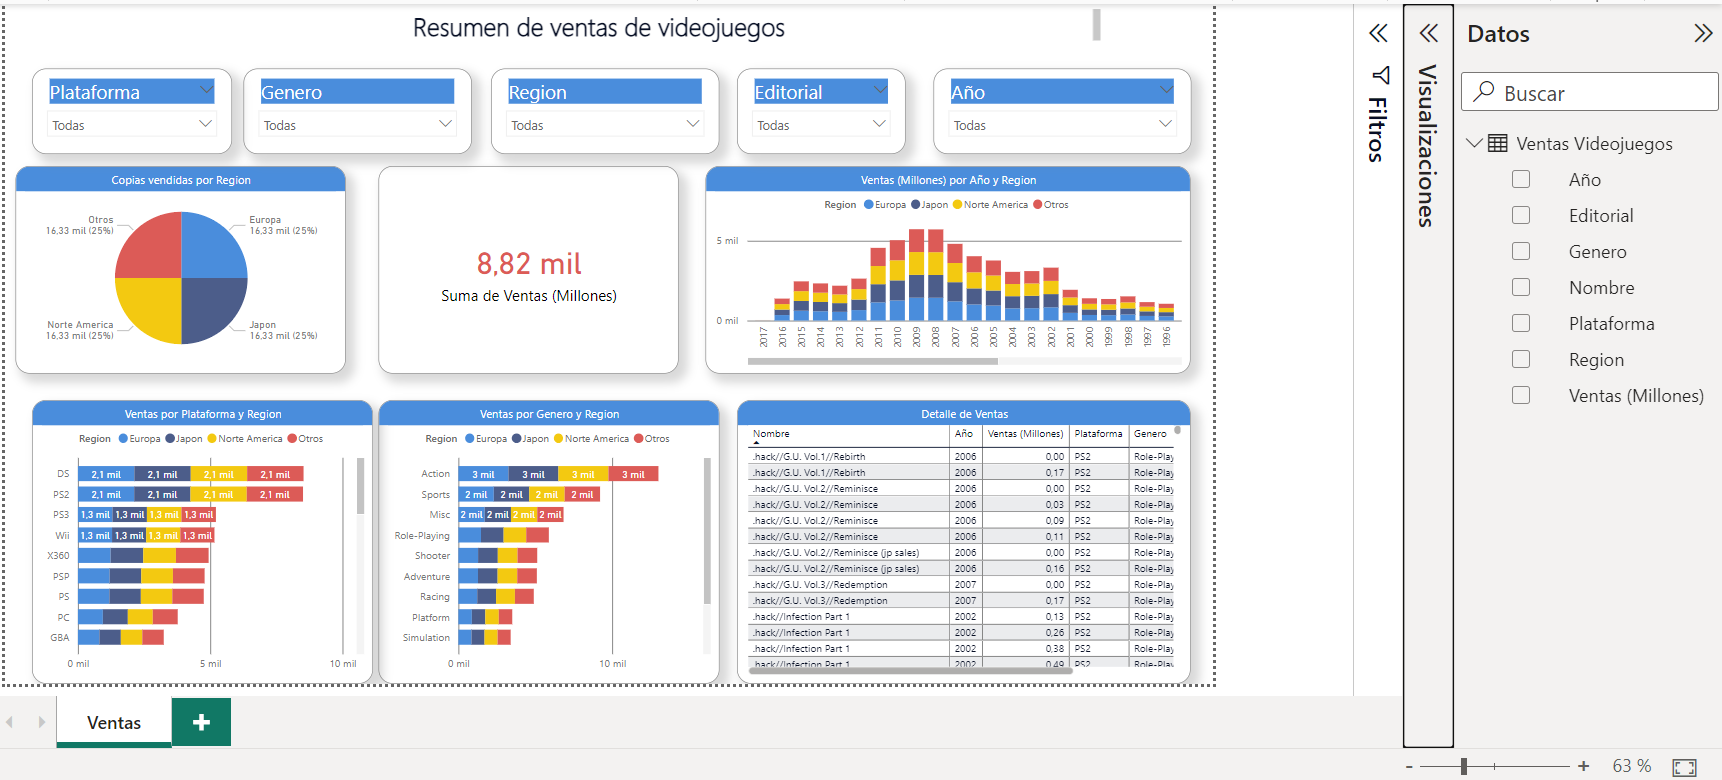

The dashboard page shown, as its layout file describes it:
{"tool":"powerbi","page":{"name":"Ventas ","canvas":[1280,720],"ordinal":0},"visuals":[{"type":"card","title":"Nombre","fields":{"Values":["Sum(Ventas Videojuegos.Ventas (Millones))"]},"box":[396,171.4,318.2,220.3],"z":0},{"type":"columnChart","fields":{"Series":["Ventas Videojuegos.Region"],"Category":["Ventas Videojuegos.Año"],"Y":["CountNonNull(Ventas Videojuegos.Ventas (Millones))"]},"box":[743,171.4,514.1,220.3],"z":1000},{"type":"pieChart","title":"Copias vendidas por Region ","fields":{"Y":["CountNonNull(Ventas Videojuegos.Ventas (Millones))"],"Category":["Ventas Videojuegos.Region"]},"box":[11.5,171.4,349.9,220.3],"z":2000},{"type":"barChart","fields":{"Category":["Ventas Videojuegos.Plataforma"],"Y":["CountNonNull(Ventas Videojuegos.Ventas (Millones))"],"Series":["Ventas Videojuegos.Region"]},"box":[28.8,419,361.4,301],"z":3000},{"type":"barChart","fields":{"Y":["CountNonNull(Ventas Videojuegos.Ventas (Millones))"],"Series":["Ventas Videojuegos.Region"],"Category":["Ventas Videojuegos.Genero"]},"box":[396,419,361.4,301],"z":4000},{"type":"slicer","fields":{"Values":["Ventas Videojuegos.Año"]},"box":[983.5,69.1,273.6,90.7],"z":5000},{"type":"slicer","fields":{"Values":["Ventas Videojuegos.Plataforma"]},"box":[28.8,69.1,211.7,90.7],"z":6000},{"type":"slicer","fields":{"Values":["Ventas Videojuegos.Genero"]},"box":[252,69.1,241.9,90.7],"z":7000},{"type":"slicer","fields":{"Values":["Ventas Videojuegos.Region"]},"box":[515.5,69.1,241.9,90.7],"z":8000},{"type":"slicer","fields":{"Values":["Ventas Videojuegos.Editorial"]},"box":[776.2,69.1,178.6,90.7],"z":9000},{"type":"tableEx","title":"Detalle de Ventas","fields":{"Values":["Ventas Videojuegos.Nombre","Ventas Videojuegos.Año","Ventas Videojuegos.Ventas (Millones)","Ventas Videojuegos.Plataforma","Ventas Videojuegos.Genero","Ventas Videojuegos.Editorial"]},"box":[776.2,419,481,301],"z":10000},{"type":"textbox","box":[99.4,0,1065.6,44.6],"z":10001}]}

Visuals, with their boxes on the page's 1280x720 design canvas (x1, y1, x2, y2). These are canvas units, not pixel positions in the 1722x780 screenshot, which may show the page scaled, cropped or inside an application window:
"Nombre" card: x1=396, y1=171, x2=714, y2=392
columnChart - Ventas Videojuegos.Region x Ventas Videojuegos.Año: x1=743, y1=171, x2=1257, y2=392
"Copias vendidas por Region " pieChart: x1=12, y1=171, x2=361, y2=392
barChart - Ventas Videojuegos.Plataforma x CountNonNull(Ventas Videojuegos.Ventas (Millones)): x1=29, y1=419, x2=390, y2=720
barChart - CountNonNull(Ventas Videojuegos.Ventas (Millones)) x Ventas Videojuegos.Region: x1=396, y1=419, x2=757, y2=720
slicer - Ventas Videojuegos.Año: x1=984, y1=69, x2=1257, y2=160
slicer - Ventas Videojuegos.Plataforma: x1=29, y1=69, x2=240, y2=160
slicer - Ventas Videojuegos.Genero: x1=252, y1=69, x2=494, y2=160
slicer - Ventas Videojuegos.Region: x1=516, y1=69, x2=757, y2=160
slicer - Ventas Videojuegos.Editorial: x1=776, y1=69, x2=955, y2=160
"Detalle de Ventas" tableEx: x1=776, y1=419, x2=1257, y2=720
textbox: x1=99, y1=0, x2=1165, y2=45
